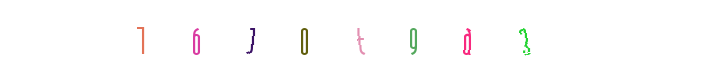3: (420, 0, 500, 80)
6: (212, 0, 292, 80)
7: (102, 0, 182, 80)
9: (315, 0, 395, 80)
A: (385, 0, 465, 80)
J: (264, 0, 344, 80)
O: (296, 0, 376, 80)
T: (307, 0, 387, 80)
